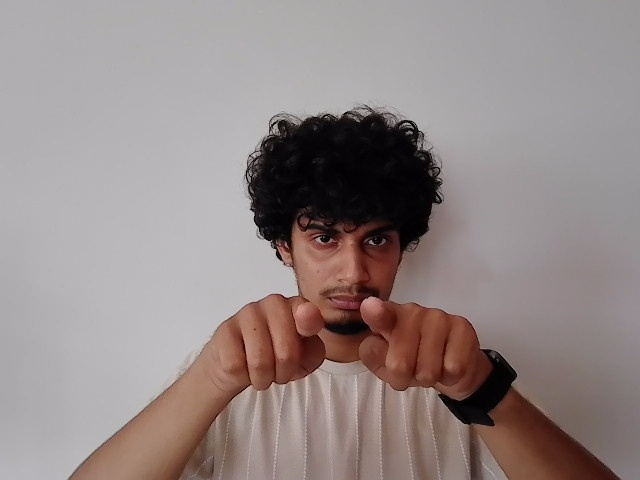same: (204, 290, 477, 395)
